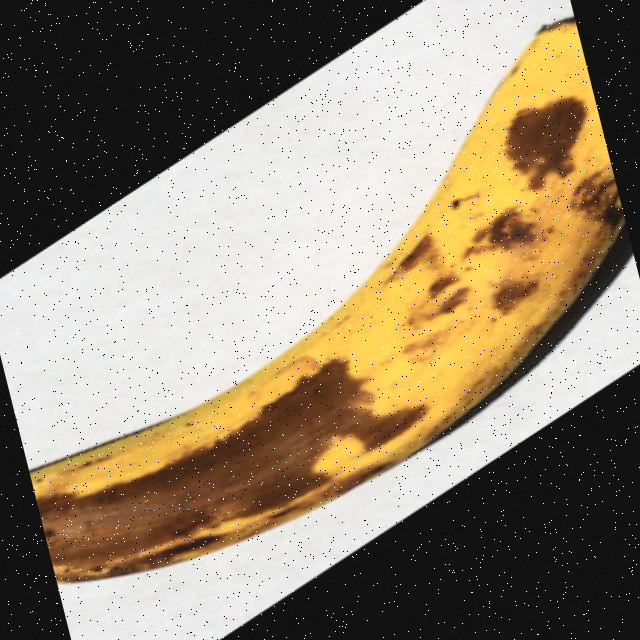overripe: (0, 11, 640, 593)
